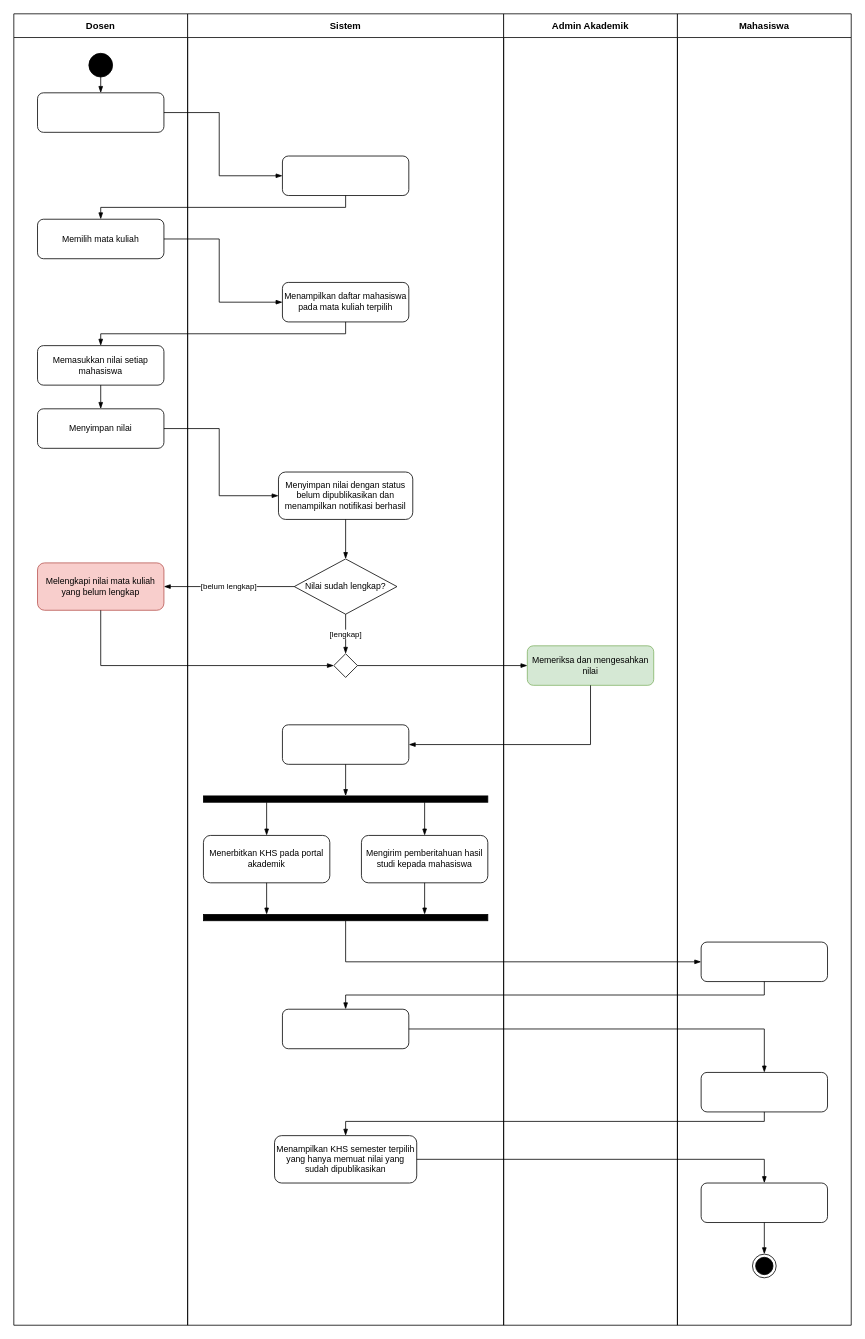
Some shapes in this 865 by 1339 pixel diagram are drawn without their labels. Each missing label, with the centre of its shape:
"Melihat KHS" goes at (x=764, y=1202).
"Memilih fungsi Input Nilai Mata Kuliah" goes at (x=100, y=112).
"Memilih menu KHS" goes at (x=764, y=961).
"Memilih semester" goes at (x=764, y=1092).
"Menampilkan daftar mata kuliah yang diampu dosen" goes at (x=345, y=175).
"Menampilkan pilihan semester" goes at (x=345, y=1028).
"Menyiapkan publikasi hasil studi" goes at (x=345, y=744).
